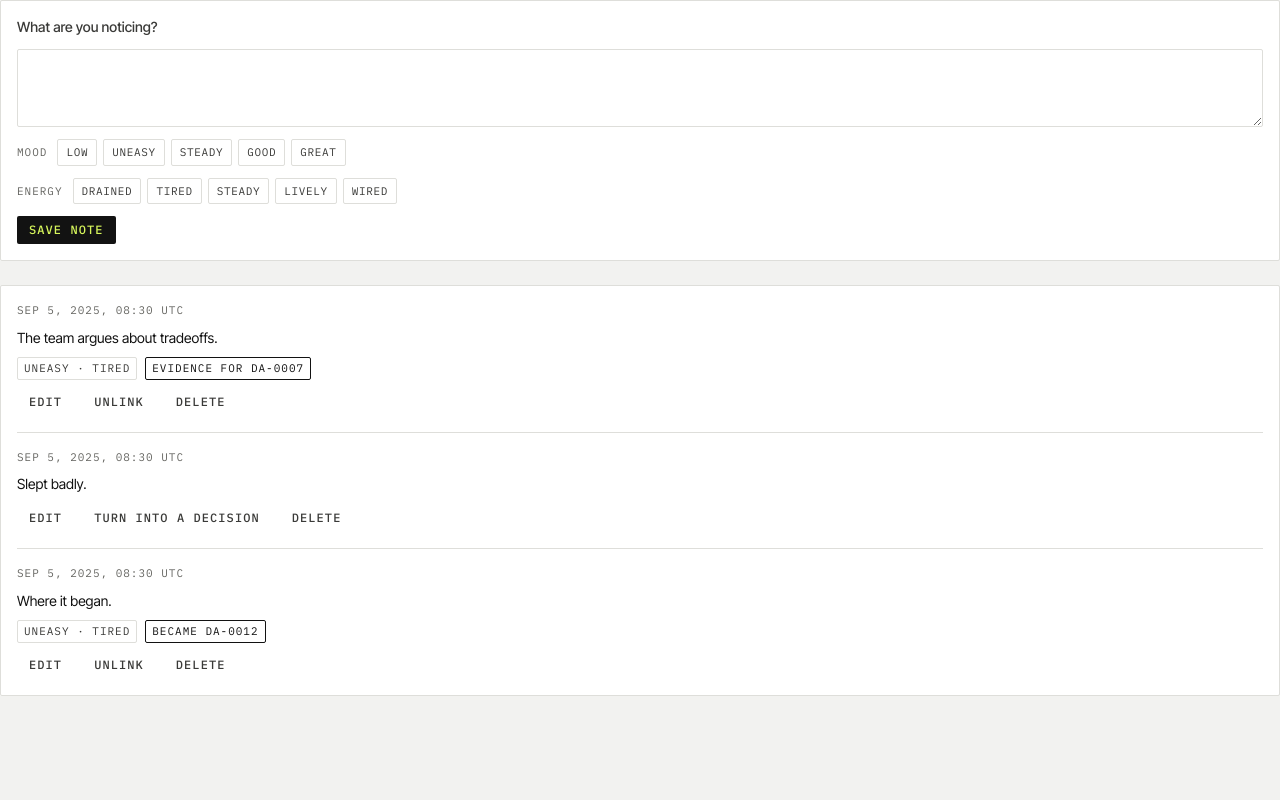
NotesFeed › deletes only after the second click, and puts the note back if deleting fails
Step 1. Click the button "Delete" below "Slept badly." → (317, 518), box [280, 504, 353, 532]
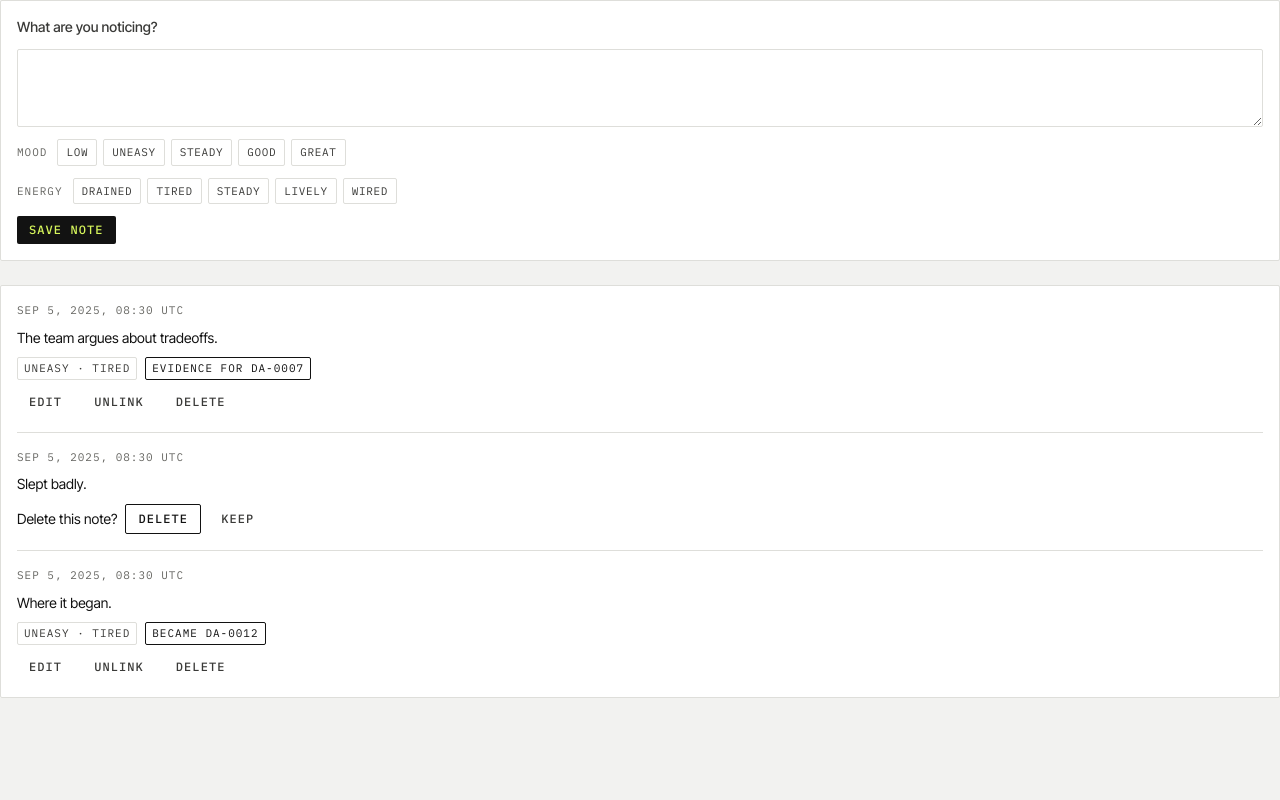
Expected: the text "Delete this note?" is shown, [17, 509, 117, 529]
Step 2. Click the button "Delete" next to "Delete this note?" → (163, 519), box [125, 504, 201, 534]
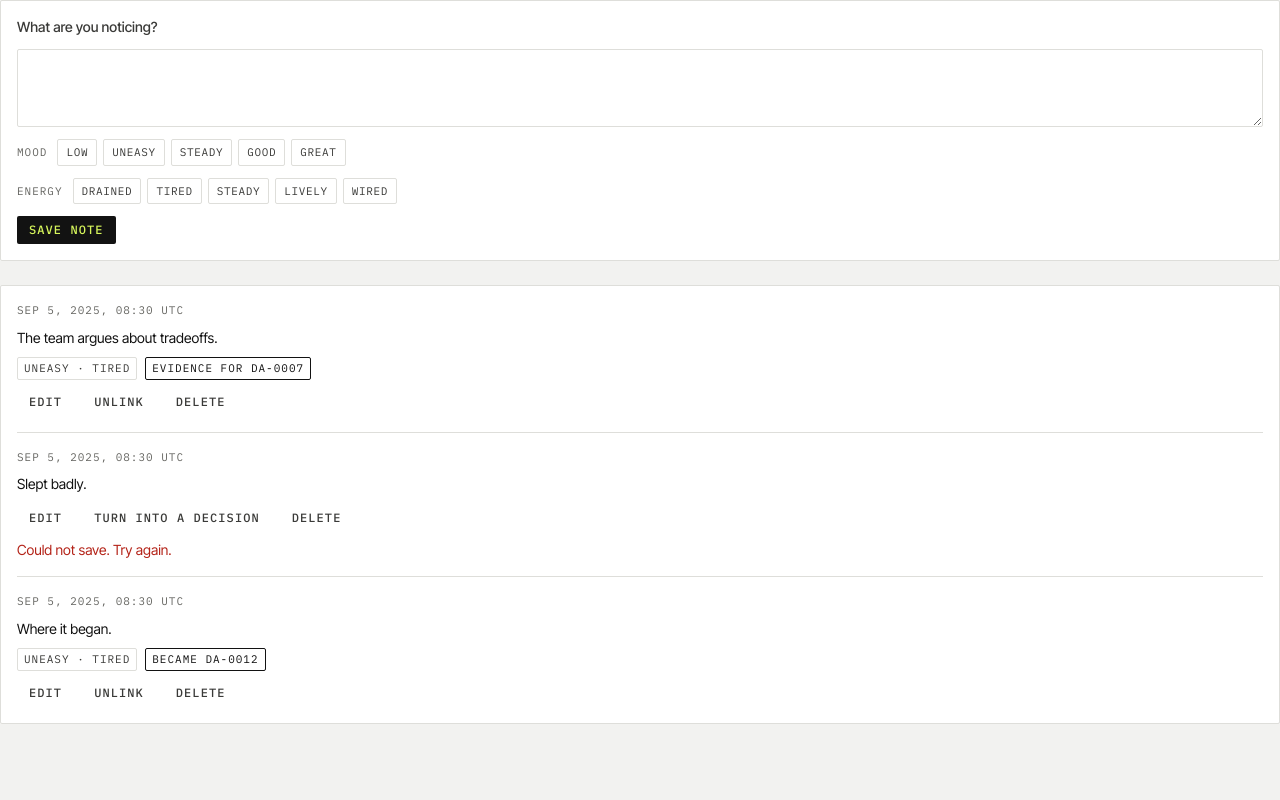
Expected: the text "Slept badly." is shown, [17, 475, 86, 492]
Expected: the text "Could not save. Try again." is shown, [17, 541, 172, 558]
